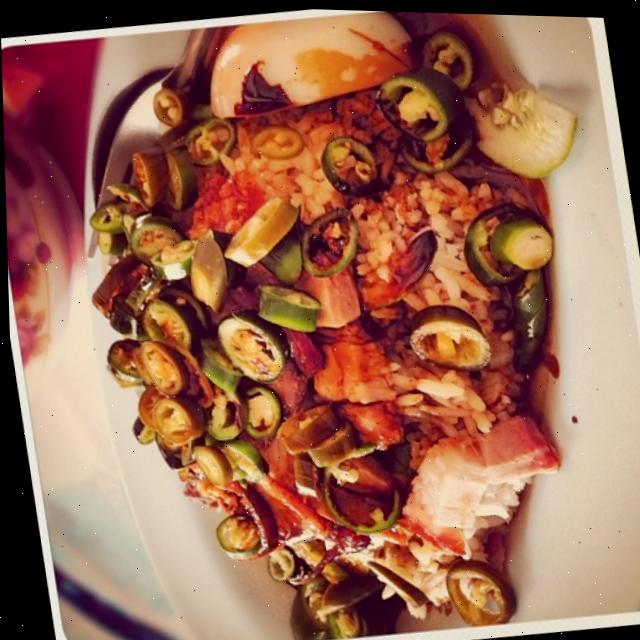猪肉菜式: (34, 1, 630, 640)
